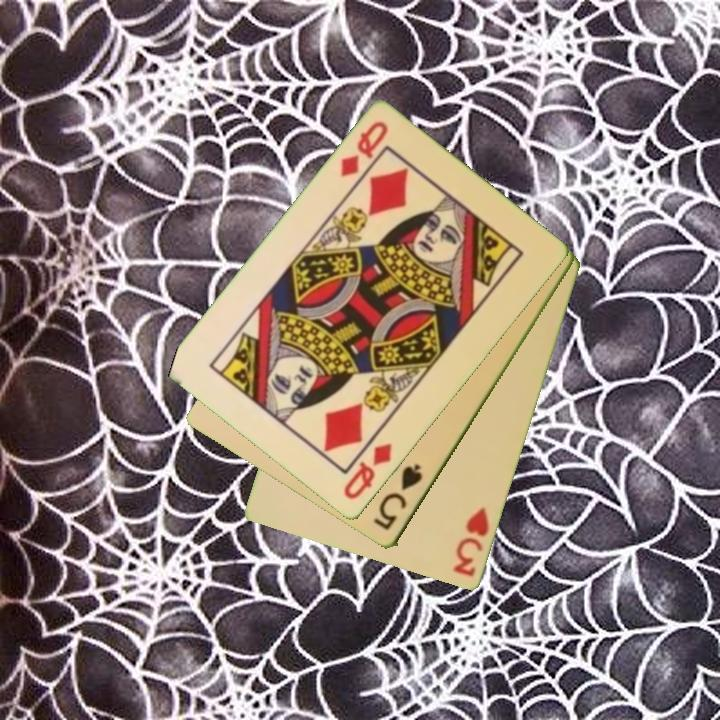3h: (450, 504, 492, 580)
5s: (370, 460, 426, 534)
Qd: (337, 117, 392, 181), (340, 440, 395, 503)
